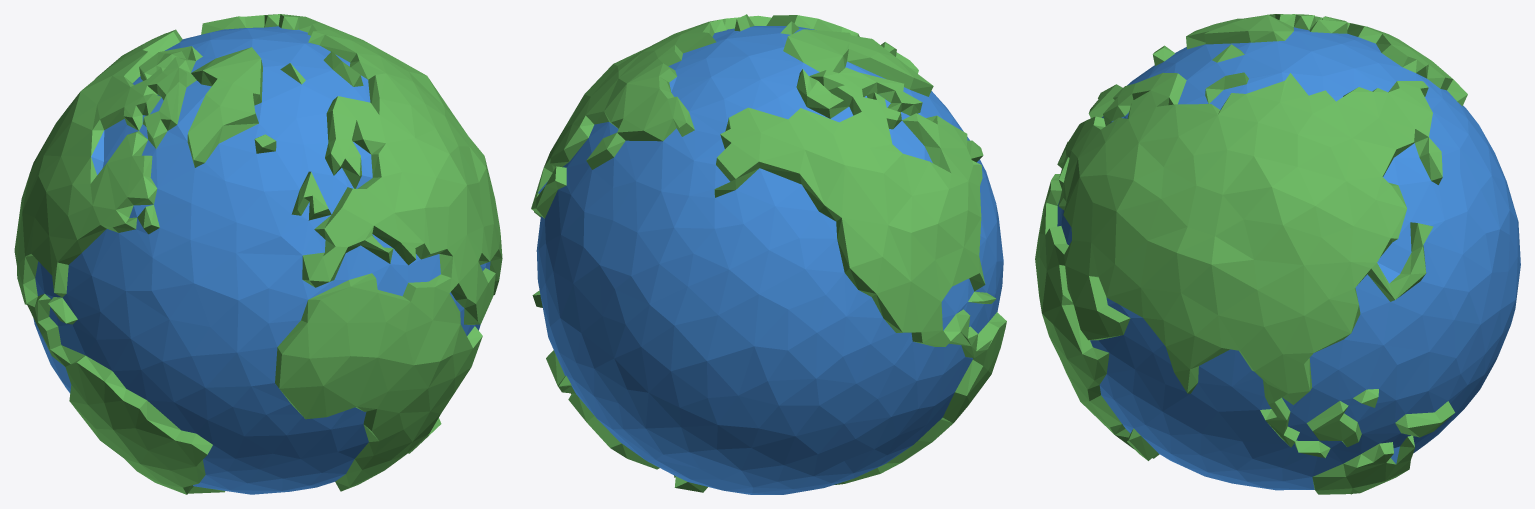
The model's file is Earth.glb.
3 views of the same model, side by side, from view 1: azimuth 30°, elevation 25°; view 2: azimuth 150°, elevation 25°; view 3: azimuth 270°, elevation 25° (orthographic).
Visible parts, largest first — view 1: Earth; view 2: Earth; view 3: Earth.
Boxes of the visible parts, x1,y1,x2,y2 form: Earth: (14,14,502,494); Earth: (531,14,1006,494); Earth: (1035,14,1520,494).
Size of the model in its own units: 100 by 100 by 100.
Materials: 1 (1 with a texture image).
